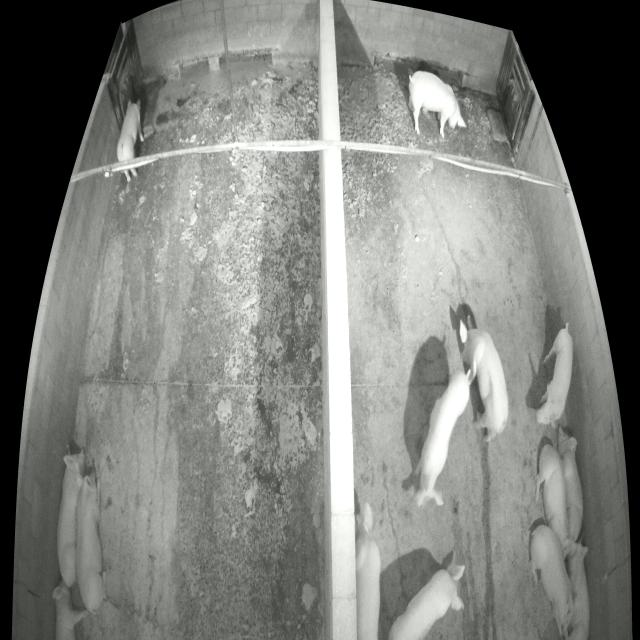pig: (412, 372, 470, 509), (459, 315, 509, 443), (388, 566, 466, 639), (529, 526, 579, 639), (75, 471, 106, 612), (56, 449, 85, 588), (409, 71, 466, 138), (354, 501, 381, 639), (535, 442, 569, 551), (536, 328, 572, 426), (556, 426, 584, 543), (567, 536, 590, 638), (117, 97, 144, 182), (52, 579, 89, 639)
